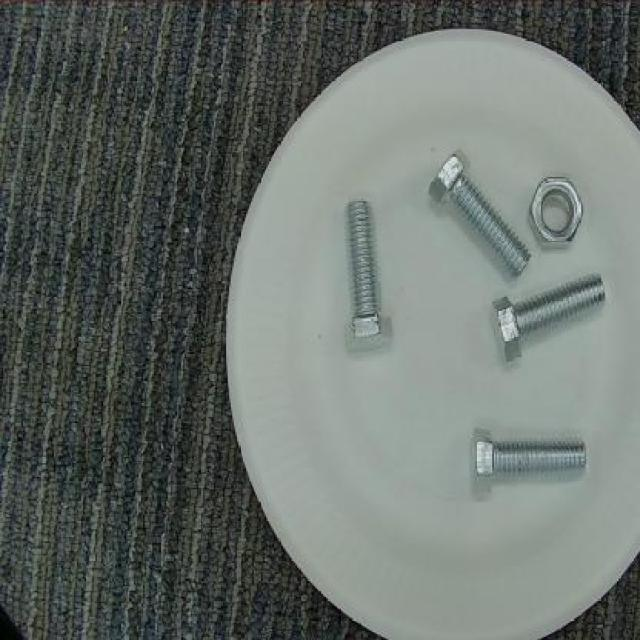Bolt: (428, 152, 537, 282), (488, 269, 613, 365), (336, 194, 396, 355), (470, 430, 594, 488)
Nut: (525, 172, 588, 251)
